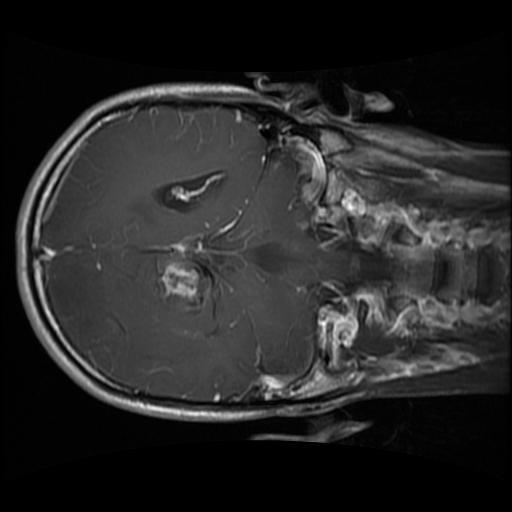glioma: (145, 231, 246, 323)
